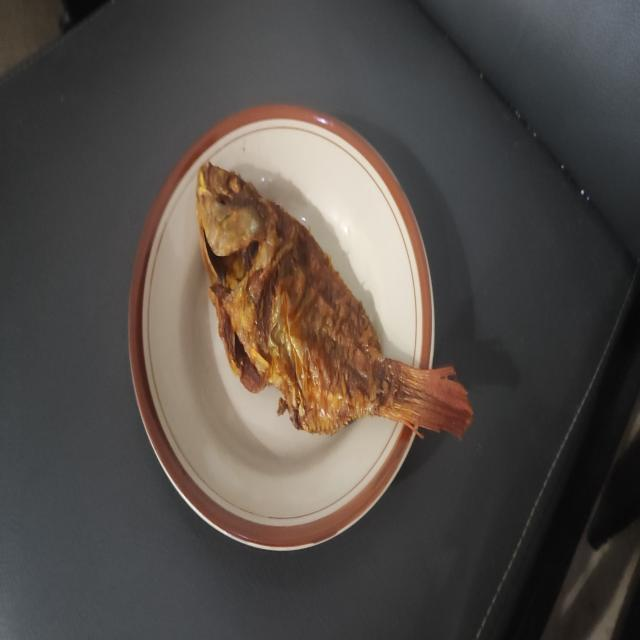ikan_mujair: (197, 161, 472, 438)
